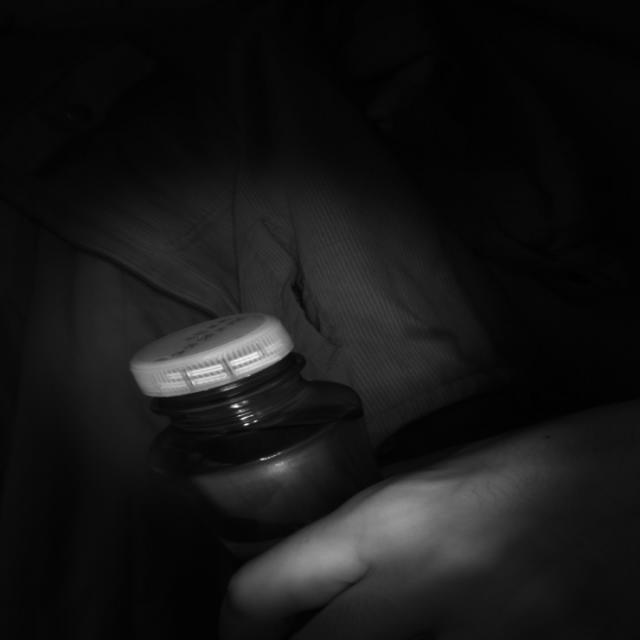Not Good: (129, 314, 305, 413)
